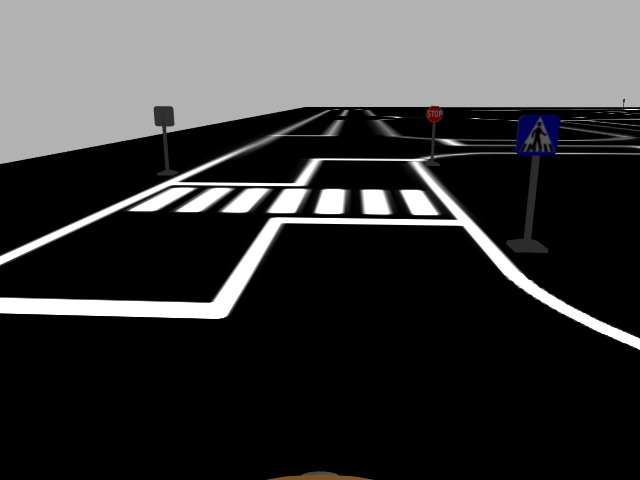crosswalk: (517, 112, 561, 158)
stop: (425, 104, 445, 123)
